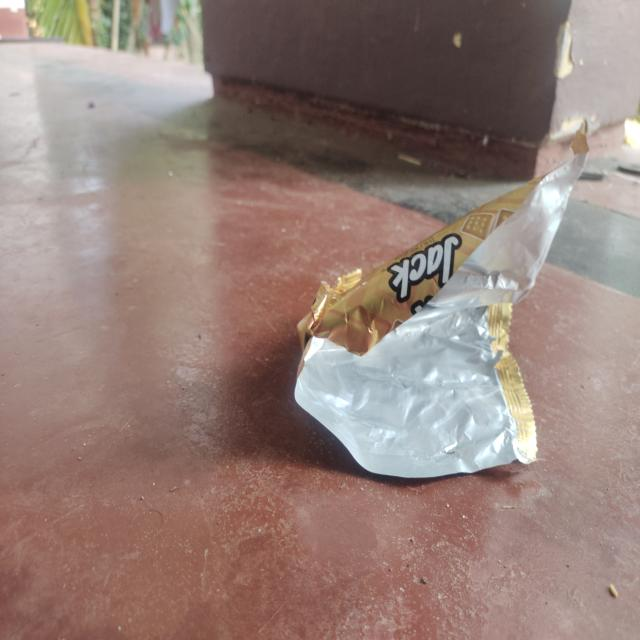plastic: (290, 119, 592, 475)
